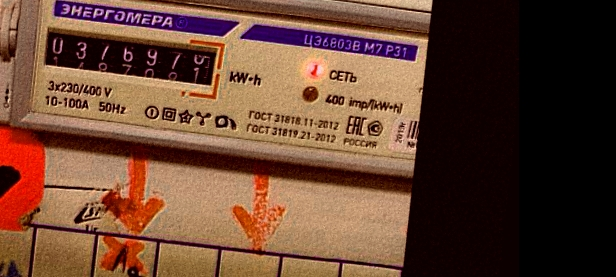0: (50, 35, 65, 56)
1: (190, 65, 203, 84)
3: (74, 39, 89, 61)
6: (121, 41, 136, 64)
7: (97, 40, 112, 62), (168, 49, 182, 72)
9: (144, 46, 159, 68)
screen: (34, 18, 230, 102)
